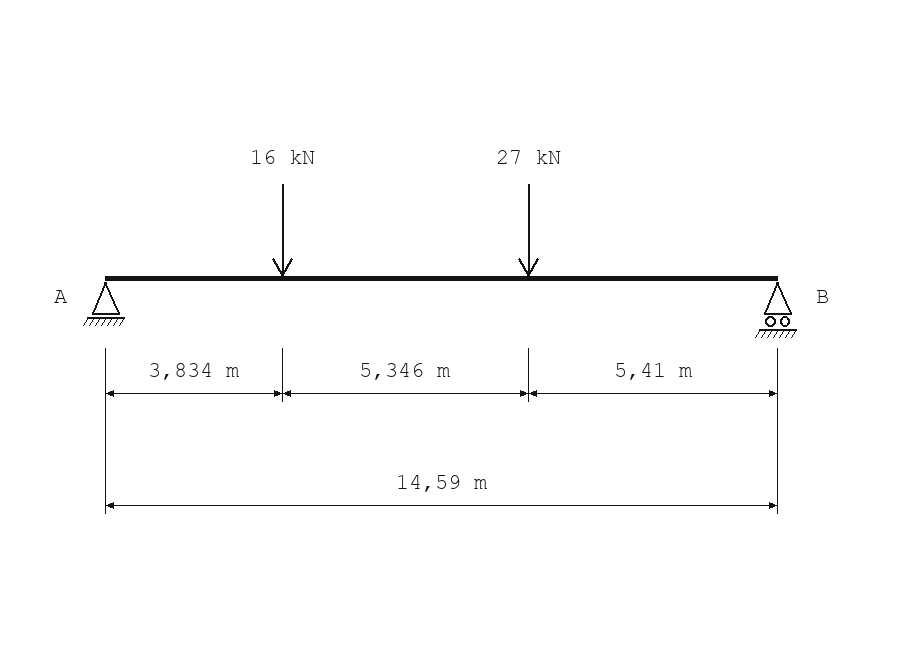pin_support: (83, 282, 125, 326)
point_load: (272, 184, 293, 277), (518, 184, 539, 277)
roller_support: (755, 282, 797, 338)
